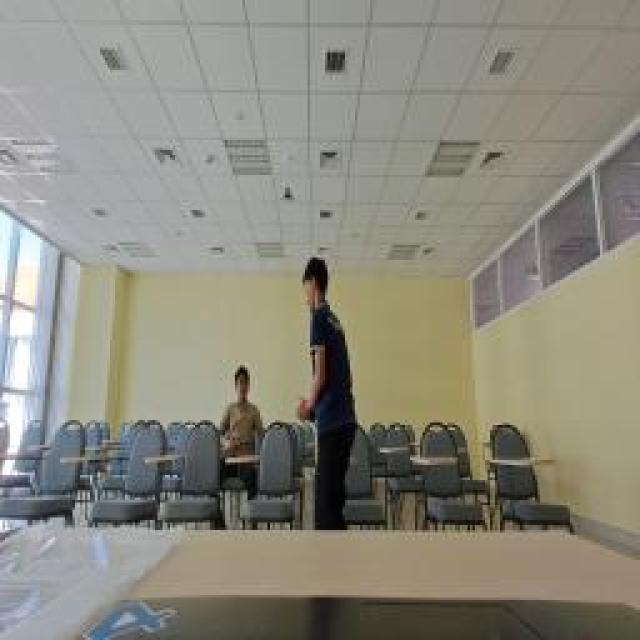study: (220, 360, 262, 455)
